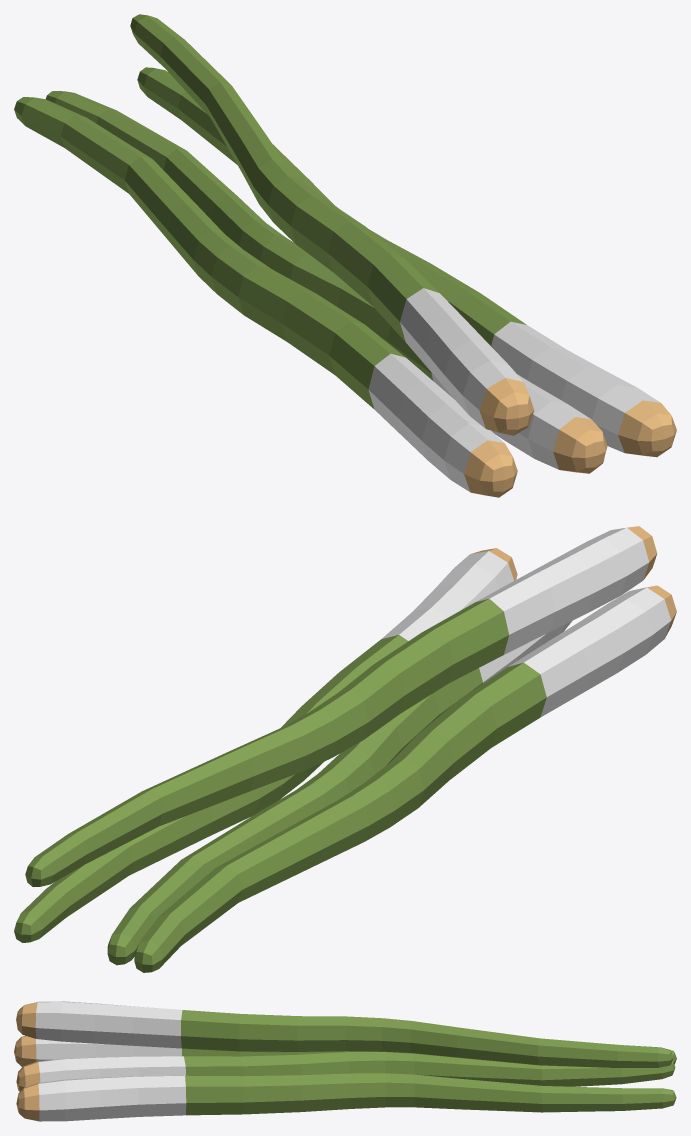
Rendered from Lemongrass.fbx.
The picture shows the model from 3 angles, top to bottom: view 1: azimuth 30°, elevation 25°; view 2: azimuth 150°, elevation 25°; view 3: azimuth 270°, elevation 25°; orthographic projection. The views are drawn at different scales.
Visible parts, largest first — view 1: Lemongrass; view 2: Lemongrass; view 3: Lemongrass.
Part boxes in pixels (x1,y1,x2,y2): Lemongrass: (14,14,676,497); Lemongrass: (14,526,676,972); Lemongrass: (14,1001,676,1121).
Bounding box in the file's own units: 16.03 × 8.66 × 67.33.
